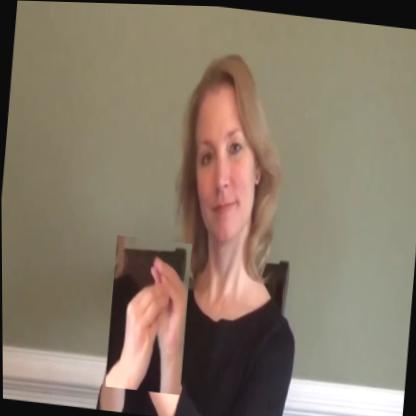Fix: (104, 234, 193, 394)
